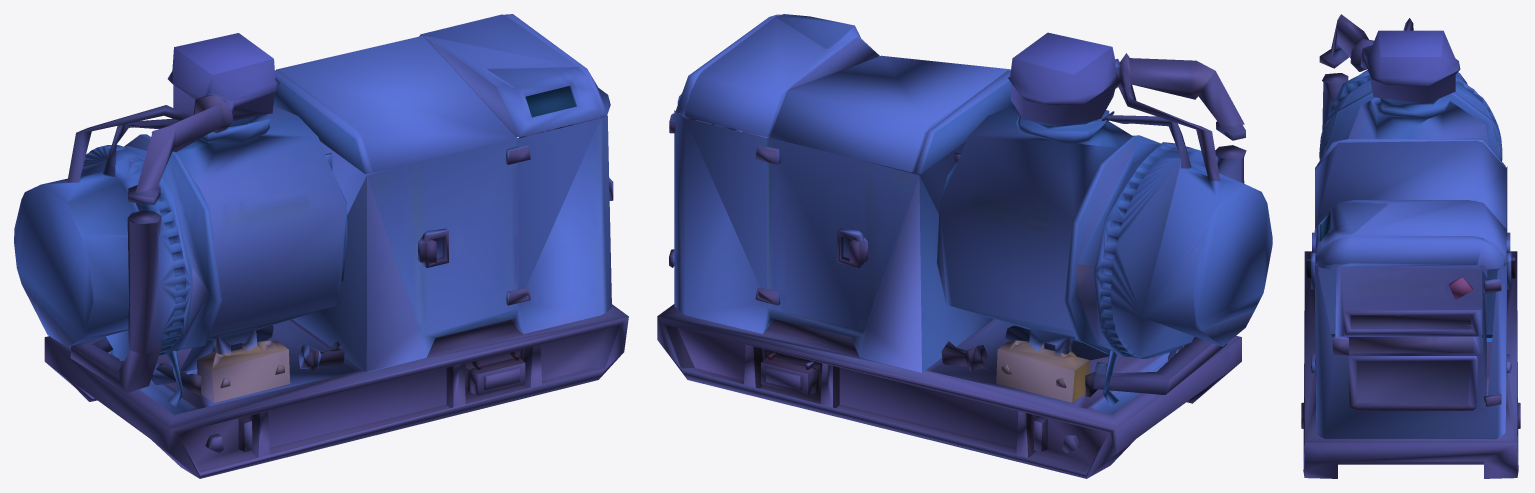
Rendered from model.progressive.glb.
3 views of the same model, side by side, from view 1: azimuth 30°, elevation 25°; view 2: azimuth 150°, elevation 25°; view 3: azimuth 270°, elevation 25° (orthographic). The views are drawn at different scales.
Parts seen in each view (by area): view 1: material; view 2: material; view 3: material.
Part boxes in pixels (box(x1,y1,x2,y2)): material: box(14, 14, 628, 478); material: box(657, 14, 1272, 478); material: box(1301, 14, 1520, 478).
Bounding box in the file's own units: 1.9 × 1.27 × 0.8182.
1 material, 1 textured.
